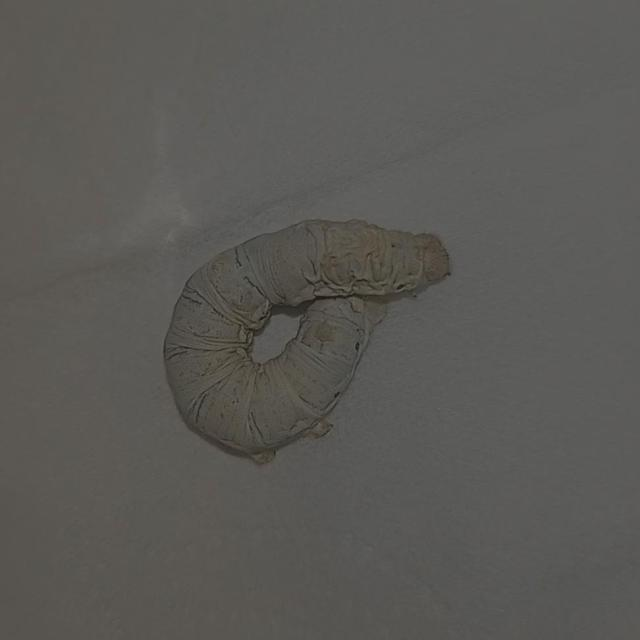Healthy: (136, 192, 479, 481)
